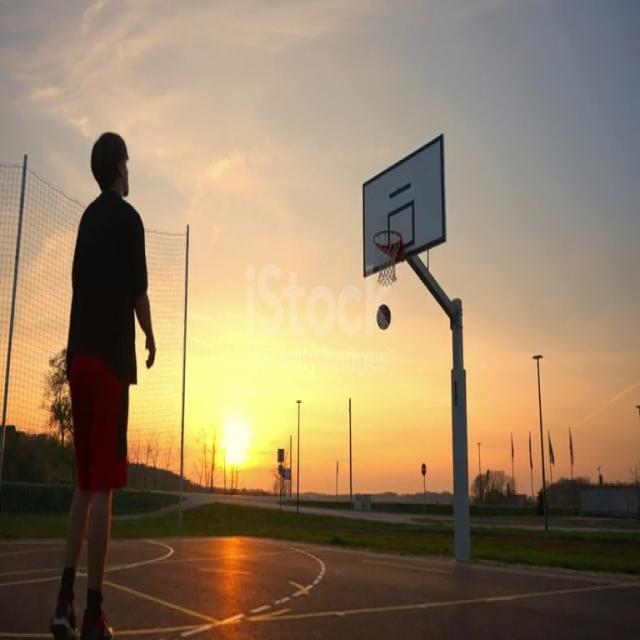ball: (376, 304, 391, 330)
